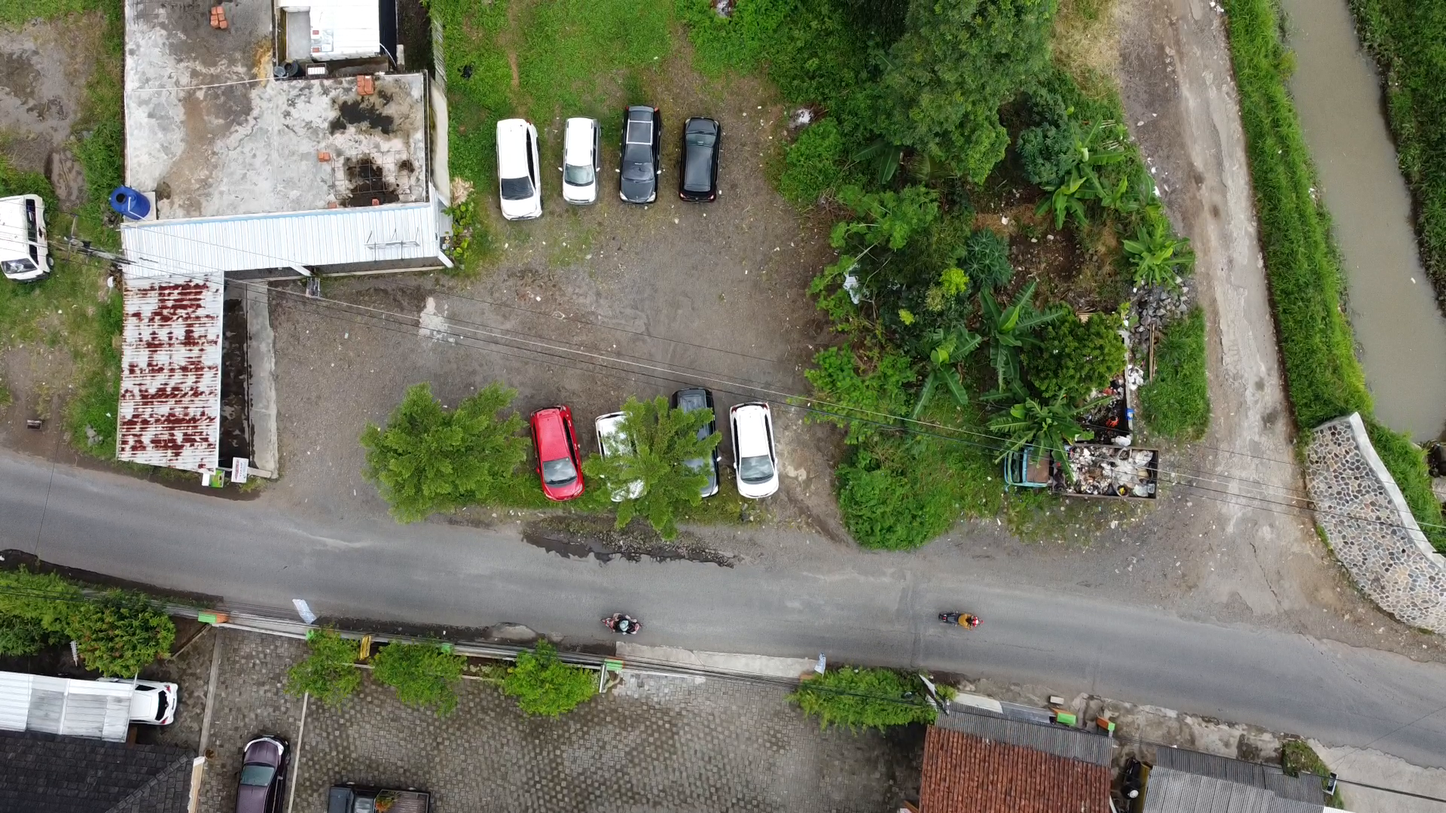mobil: (665, 380, 725, 515), (668, 91, 727, 221), (724, 399, 789, 513), (524, 403, 588, 508), (612, 99, 669, 216), (487, 111, 546, 221), (590, 406, 654, 502), (2, 187, 58, 293), (236, 718, 294, 813), (320, 772, 449, 813), (559, 111, 604, 216), (117, 681, 189, 726)
